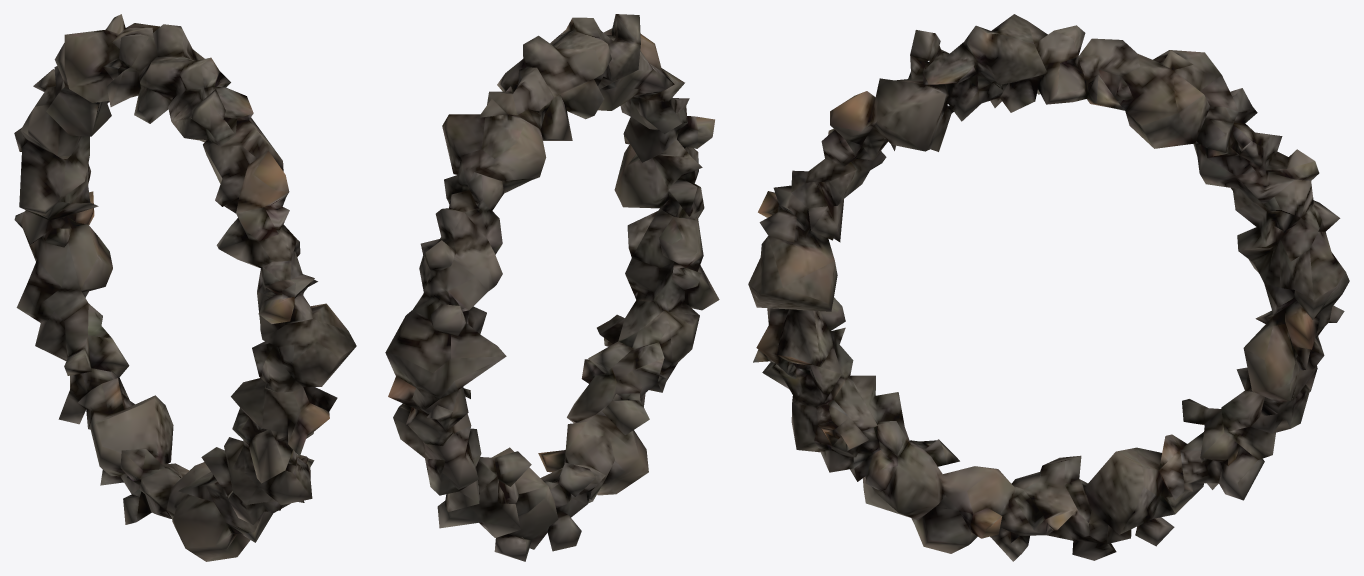
The model's file is debris.glb.
The picture shows the model from 3 angles, left to right: view 1: azimuth 30°, elevation 25°; view 2: azimuth 150°, elevation 25°; view 3: azimuth 270°, elevation 25°; orthographic projection. The views are drawn at different scales.
Parts seen in each view (by area): view 1: tripo_node_f2564545-152b-4d9d-aabb-74c06dbc005c; view 2: tripo_node_f2564545-152b-4d9d-aabb-74c06dbc005c; view 3: tripo_node_f2564545-152b-4d9d-aabb-74c06dbc005c.
Boxes of the visible parts, x1,y1,x2,y2 form: tripo_node_f2564545-152b-4d9d-aabb-74c06dbc005c: (14,14,356,561); tripo_node_f2564545-152b-4d9d-aabb-74c06dbc005c: (385,14,719,561); tripo_node_f2564545-152b-4d9d-aabb-74c06dbc005c: (748,14,1349,561).
Size of the model in its own units: 0.2138 by 0.9535 by 0.9742.
Materials: 1 (1 with a texture image).
